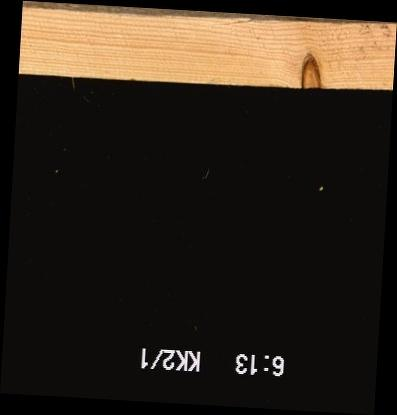edge_knot: (300, 51, 324, 89)
split: (217, 15, 256, 30)
